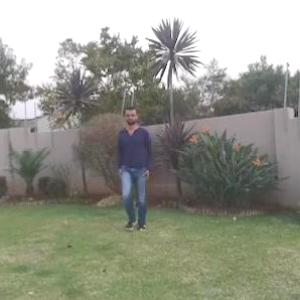follow: (119, 109, 153, 228)
